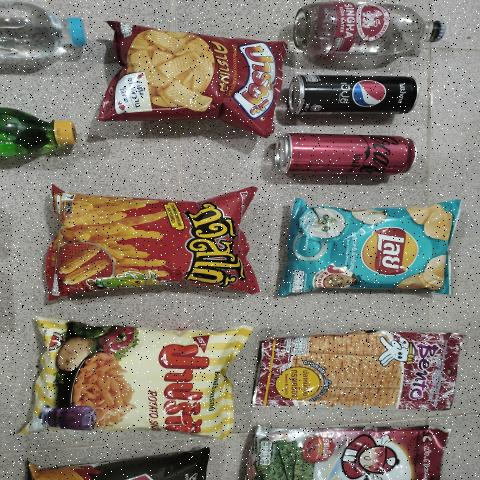bento_red: (264, 330, 458, 410)
coke_red: (280, 132, 420, 178)
lay_blue: (279, 201, 453, 295)
paprika: (36, 322, 229, 438)
party_red: (117, 23, 284, 127)
pepsi_black: (298, 71, 418, 120)
singha_soda: (292, 1, 446, 60)
twisco: (53, 194, 253, 279)
